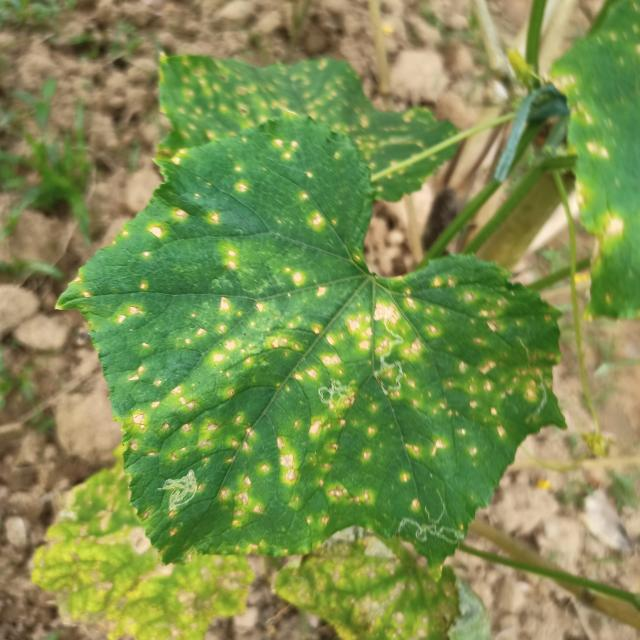disease_cucumber: (75, 264, 557, 552), (137, 204, 187, 262), (208, 211, 242, 274), (298, 171, 327, 236), (269, 134, 299, 166), (229, 163, 251, 201)
